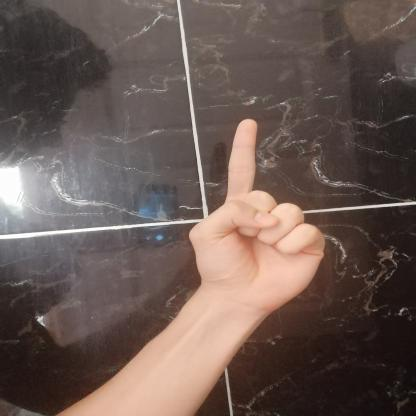BAA: (175, 106, 339, 315)
